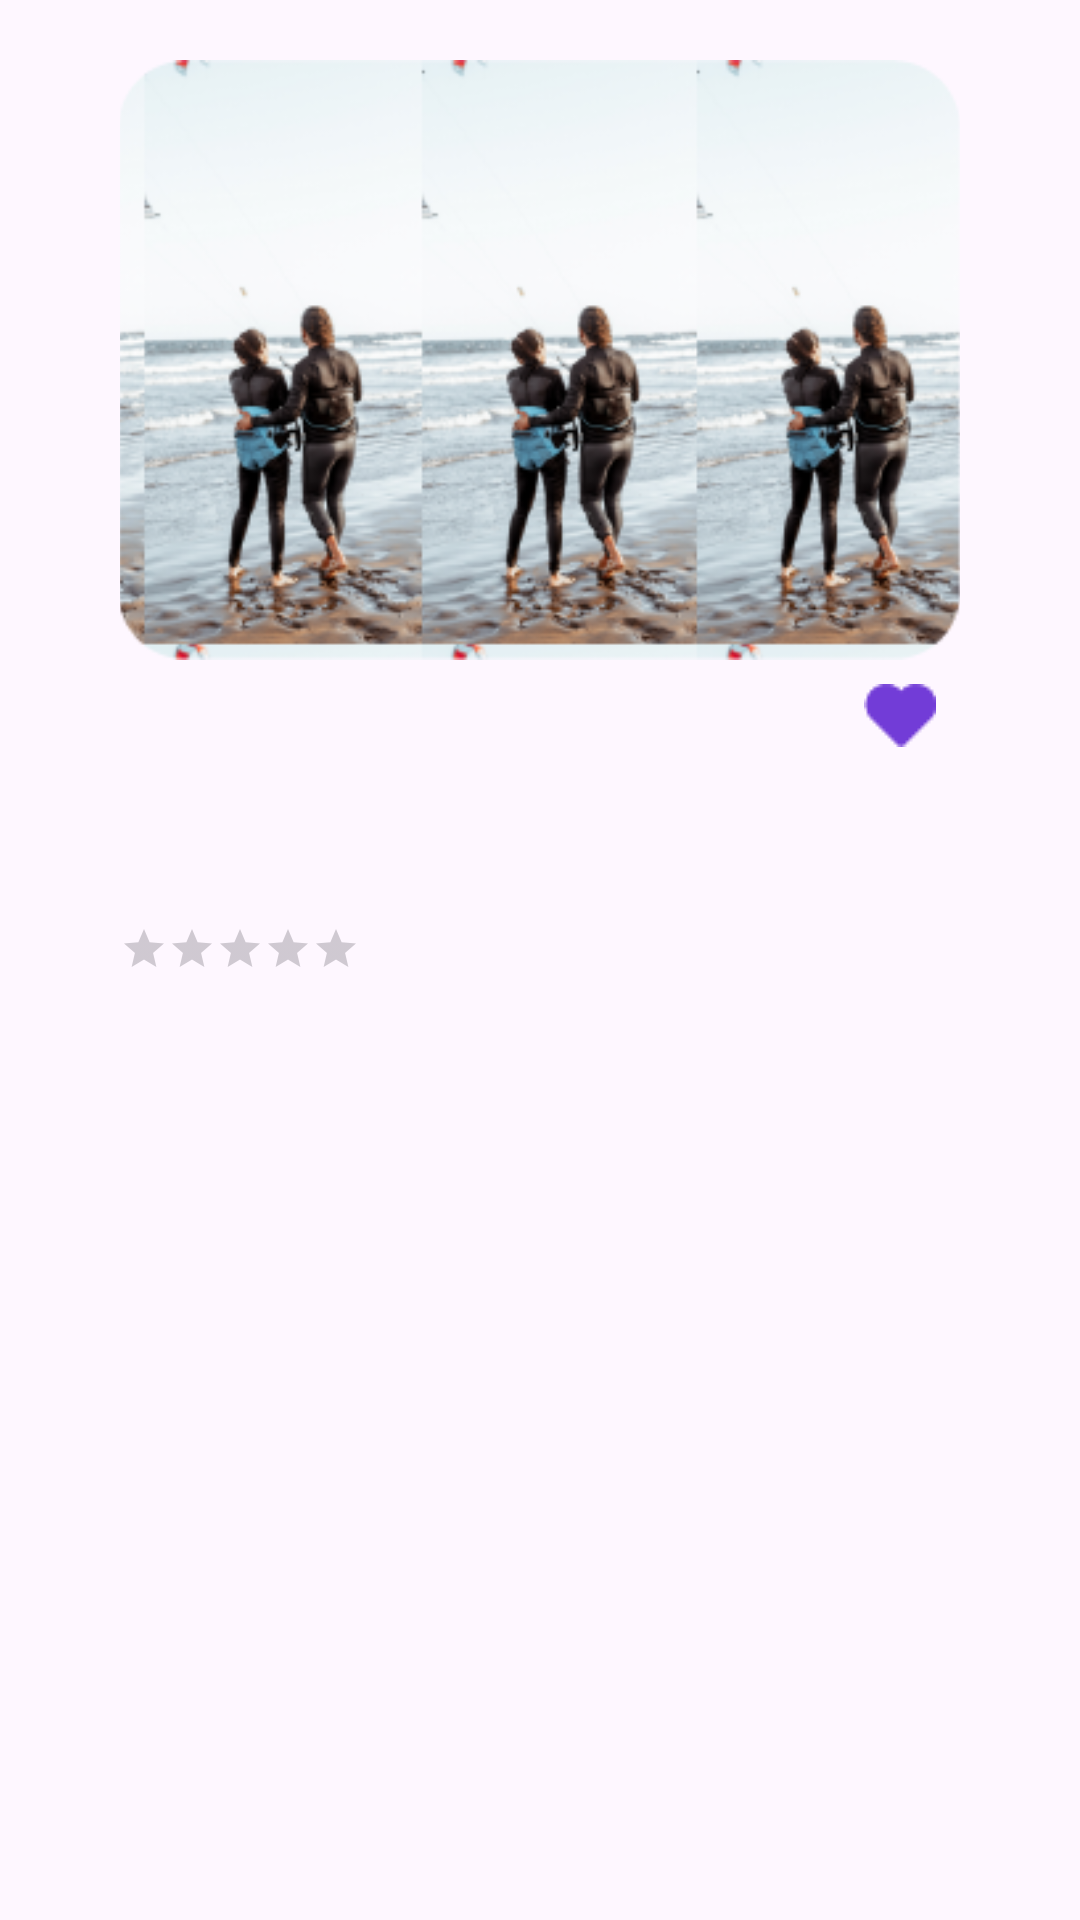

Named icons in this screenshot (1080px×1920px) and their bounding boxes, {"left": x1, "top": y1, "right": x2, "bottom": y2}:
heart full: {"left": 864, "top": 684, "right": 936, "bottom": 747}
